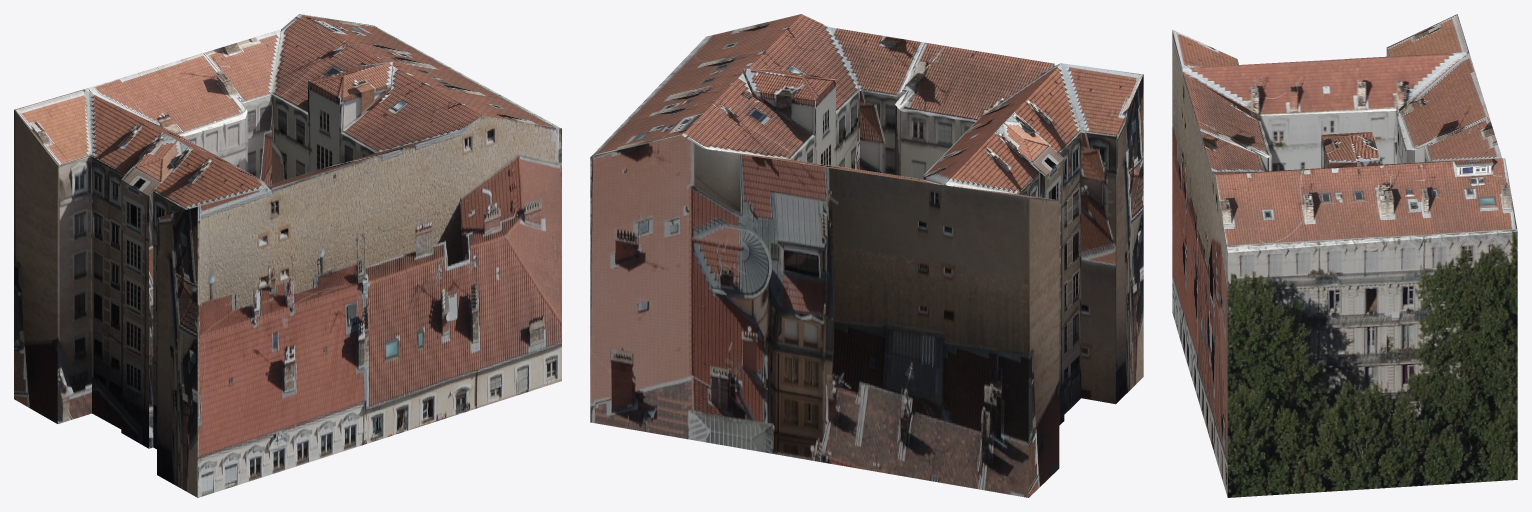
The picture shows the model from 3 angles, left to right: view 1: azimuth 30°, elevation 25°; view 2: azimuth 150°, elevation 25°; view 3: azimuth 270°, elevation 25°; orthographic projection. The views are drawn at different scales.
Parts seen in each view (by area): view 1: Z_UP; view 2: Z_UP; view 3: Z_UP.
Boxes of the visible parts, left/top/right/bottom form: Z_UP: left=14, top=14, right=561, bottom=497; Z_UP: left=590, top=14, right=1143, bottom=497; Z_UP: left=1172, top=14, right=1517, bottom=497.
Size of the model in its own units: 40.63 by 26.91 by 29.2.
Materials: 2 (1 with a texture image).
